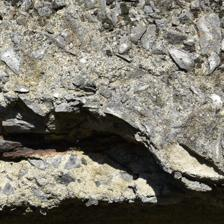Crack: (5, 98, 204, 194)
